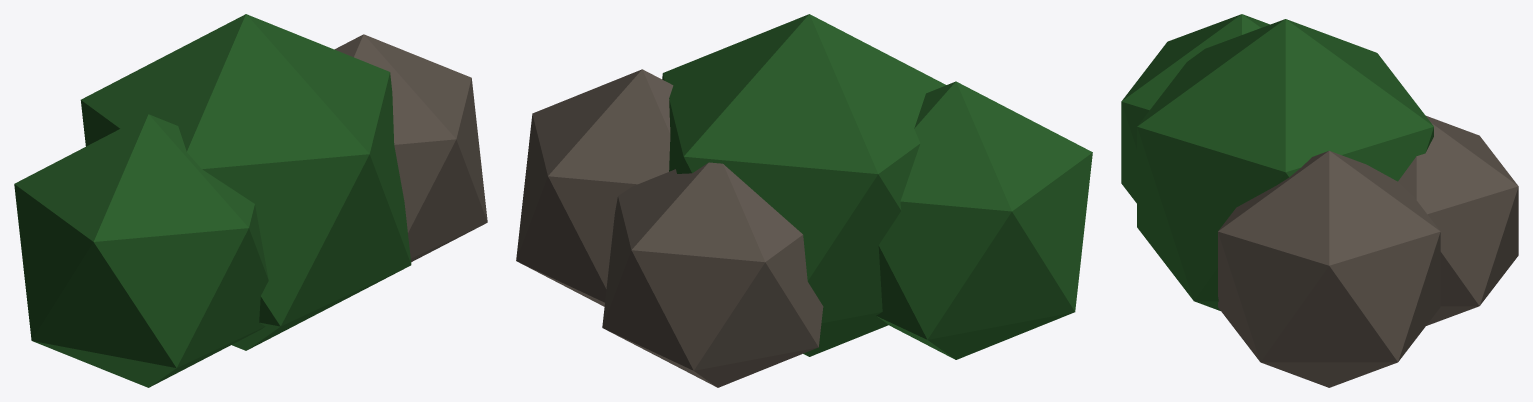
File: SM_GZ_bush_dark.fbx
3 renders of one model, left to right at view 1: azimuth 30°, elevation 25°; view 2: azimuth 150°, elevation 25°; view 3: azimuth 270°, elevation 25°, orthographic. The views are drawn at different scales.
Parts seen in each view (by area): view 1: SM_GZ_bush_dark; view 2: SM_GZ_bush_dark; view 3: SM_GZ_bush_dark.
Boxes of the visible parts, <box> form: SM_GZ_bush_dark: <box>14,14,487,387</box>; SM_GZ_bush_dark: <box>516,14,1092,387</box>; SM_GZ_bush_dark: <box>1121,14,1518,387</box>.
Bounding box in the file's own units: 242 × 160 × 182.
